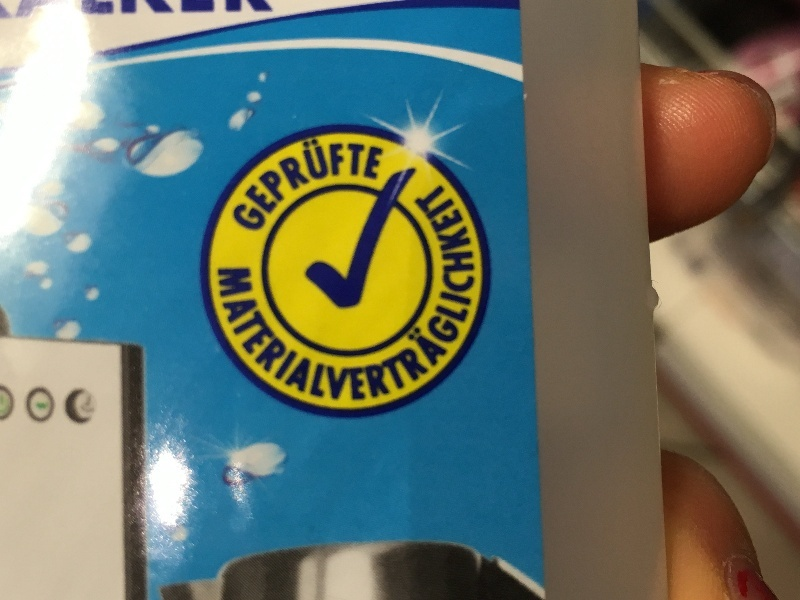text: (225, 173, 240, 429), (241, 173, 256, 429), (257, 173, 272, 429), (273, 173, 288, 429), (289, 173, 304, 429), (305, 173, 320, 429), (321, 173, 336, 429), (337, 173, 352, 429), (353, 173, 368, 429), (369, 173, 384, 429), (385, 173, 400, 429), (401, 173, 416, 429), (417, 173, 432, 429), (433, 173, 448, 429), (449, 173, 464, 429), (465, 173, 479, 429), (211, 173, 224, 429), (209, 110, 224, 234), (225, 110, 240, 234), (241, 110, 256, 234), (257, 110, 272, 234), (273, 110, 288, 234), (289, 110, 304, 234), (305, 110, 320, 234), (321, 110, 336, 234), (337, 110, 352, 234), (353, 110, 368, 234), (369, 110, 384, 234), (385, 110, 392, 234)
